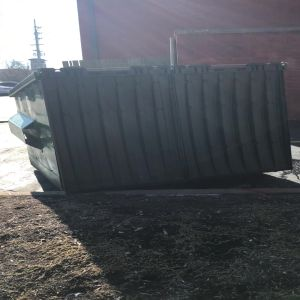Dumpster: (8, 57, 299, 192)
